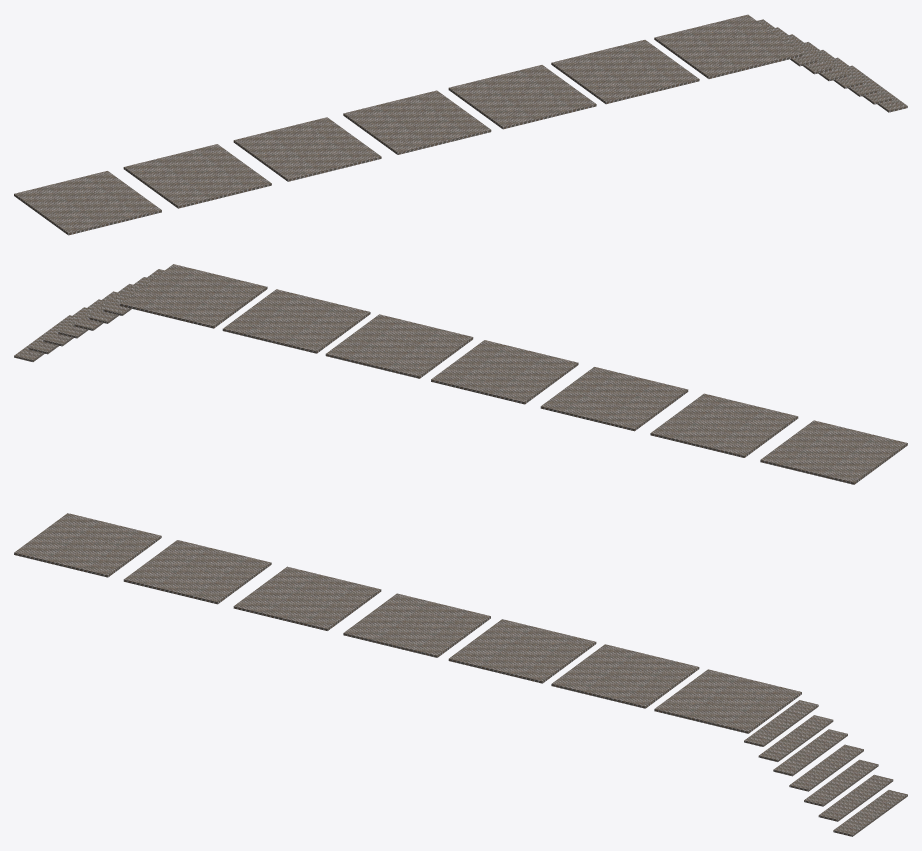
Rendered from stairs_wall01_lod.fbx.
3 renders of one model, top to bottom at view 1: azimuth 30°, elevation 25°; view 2: azimuth 150°, elevation 25°; view 3: azimuth 330°, elevation 25°, orthographic.
Visible parts, largest first — view 1: Mesh Object; view 2: Mesh Object; view 3: Mesh Object.
Boxes of the visible parts, x1,y1,x2,y2 form: Mesh Object: [14, 14, 907, 235]; Mesh Object: [14, 264, 907, 484]; Mesh Object: [14, 513, 907, 836].
Size of the model in its own units: 11.93 by 1.07 by 1.36.
